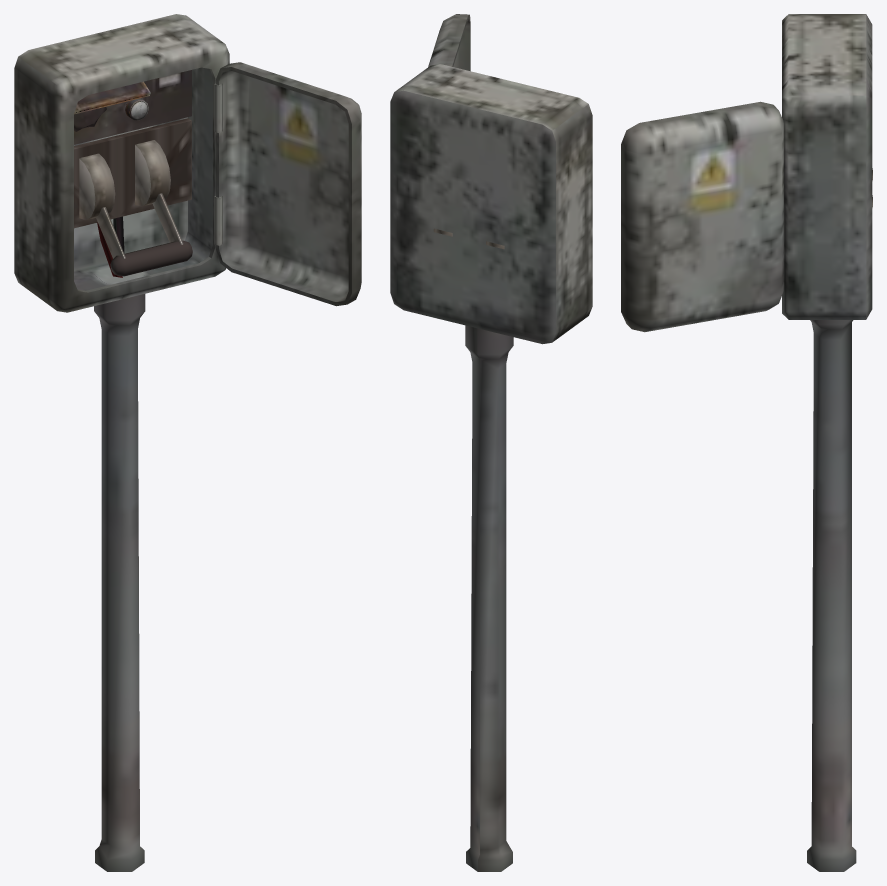
Rendered from electrical_box_d_open.glb.
The picture shows the model from 3 angles, left to right: view 1: azimuth 30°, elevation 25°; view 2: azimuth 150°, elevation 25°; view 3: azimuth 270°, elevation 25°; orthographic projection. The views are drawn at different scales.
Visible parts, largest first — view 1: electrical_box_d_open_LOD0, electrical_box_d_handle; view 2: electrical_box_d_open_LOD0; view 3: electrical_box_d_open_LOD0.
Part boxes in pixels (x1=…): electrical_box_d_open_LOD0: x1=14, y1=14, x2=361, y2=871; electrical_box_d_handle: x1=79, y1=140, x2=192, y2=276; electrical_box_d_open_LOD0: x1=390, y1=14, x2=592, y2=871; electrical_box_d_open_LOD0: x1=621, y1=14, x2=872, y2=871.
Bounding box in the file's own units: 0.3647 × 1.22 × 0.3438.
Materials: 2 (2 with a texture image).
